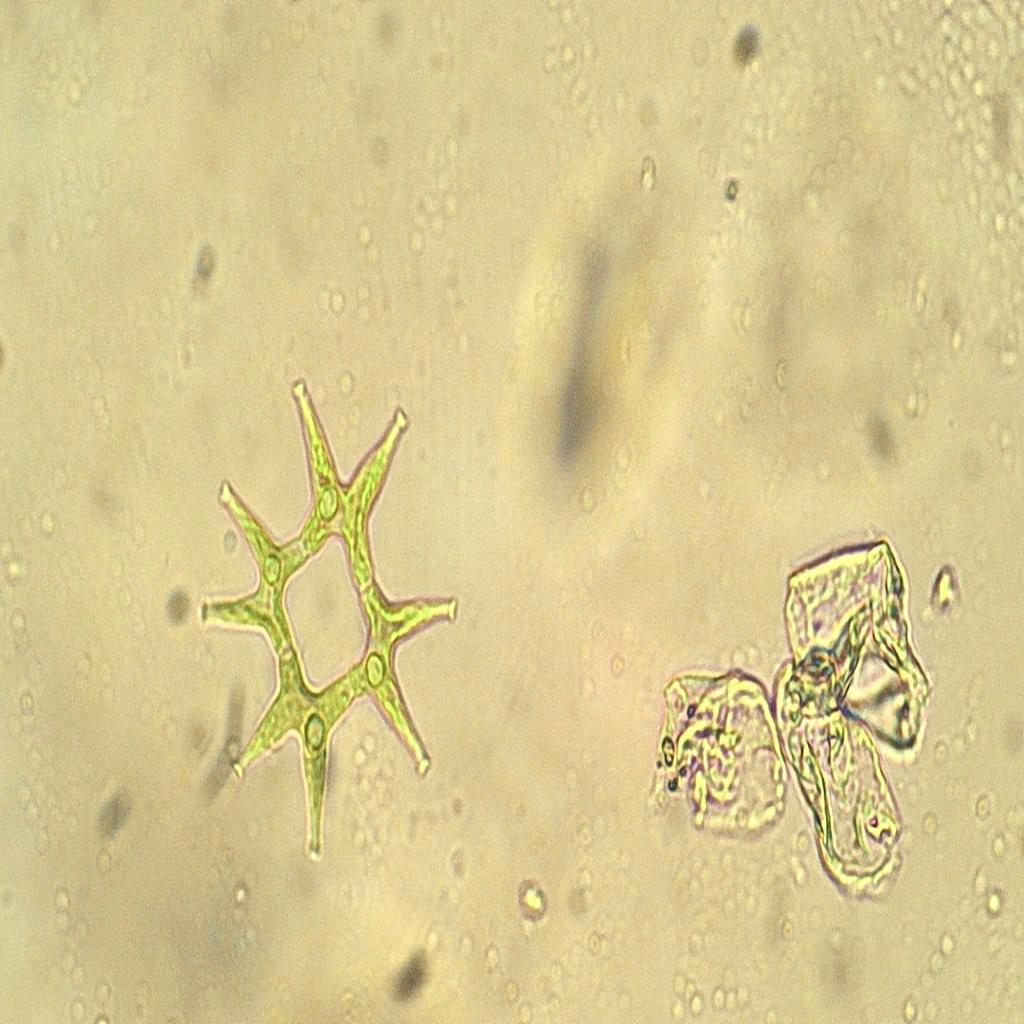Pediastrum_75O: (176, 344, 472, 870)
